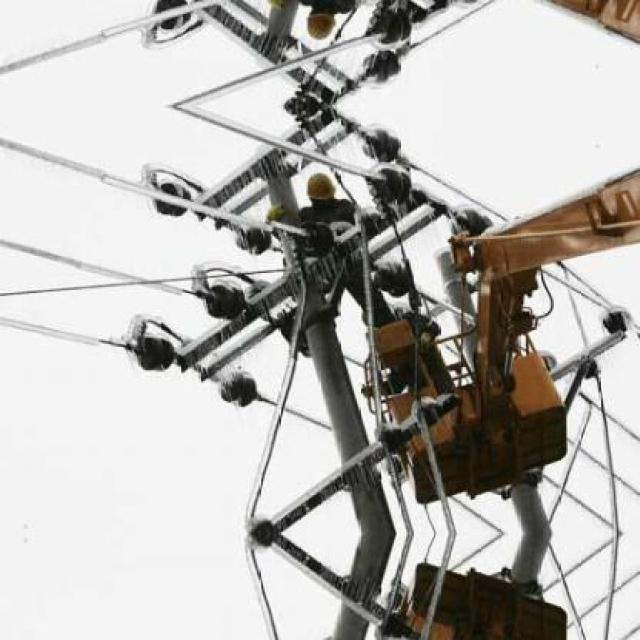helmet: (302, 167, 338, 208), (302, 4, 338, 45)
